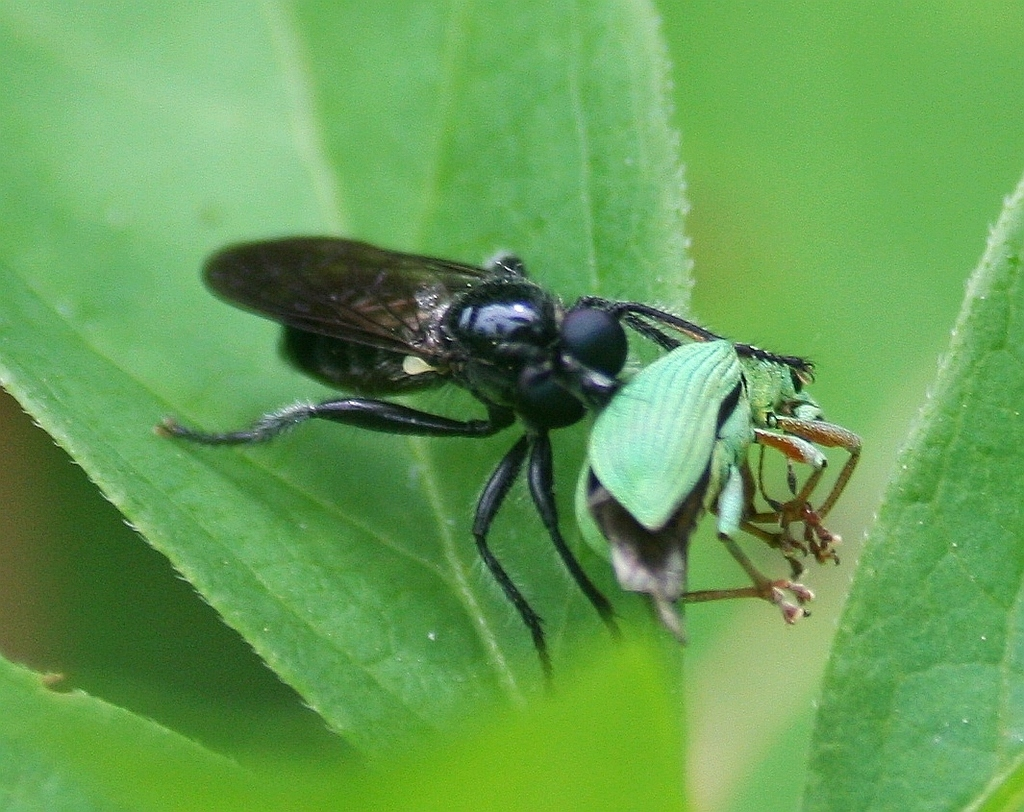not_bumblebee: (154, 233, 817, 694)
